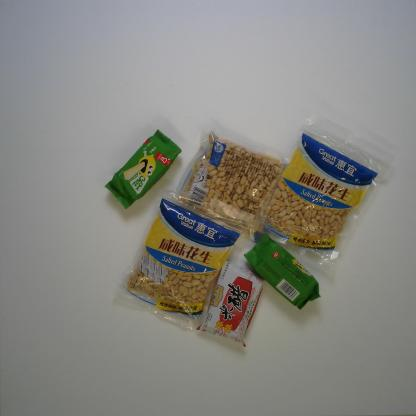Dessert: (104, 128, 182, 211), (243, 233, 322, 311)
Dried Fruit: (249, 111, 399, 268), (111, 188, 255, 334), (176, 123, 290, 246)
Seasoner: (195, 260, 266, 348)
